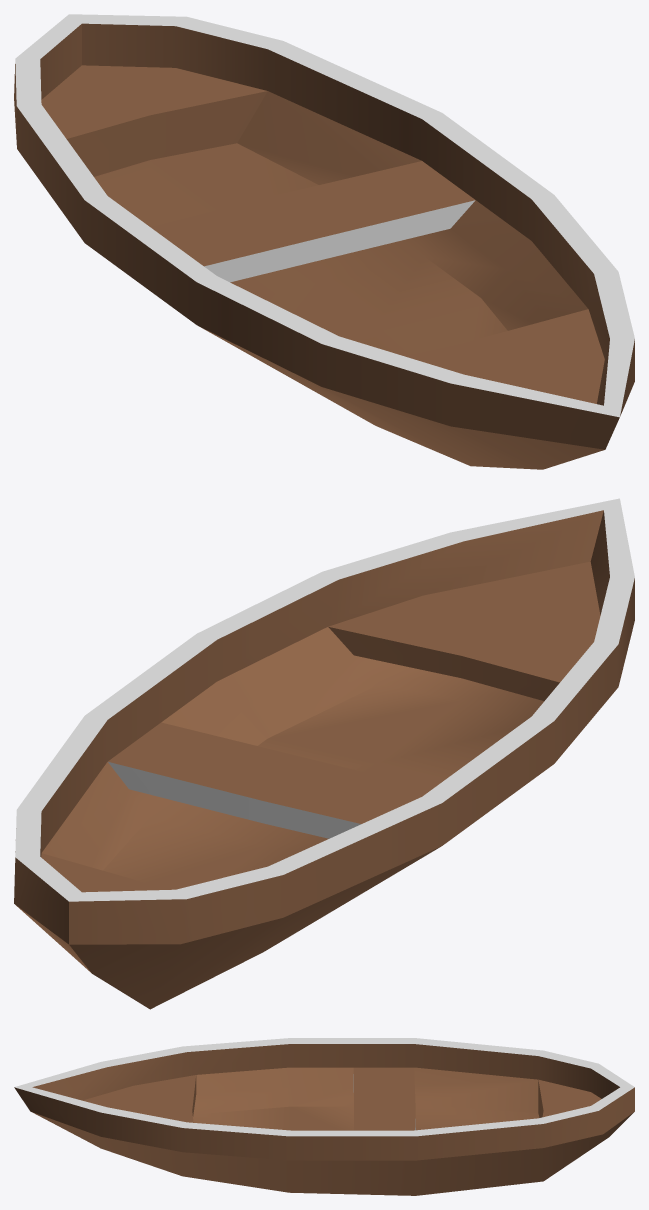
File: Rowboat.fbx
3 views of the same model, one above another, from view 1: azimuth 30°, elevation 25°; view 2: azimuth 150°, elevation 25°; view 3: azimuth 270°, elevation 25° (orthographic). The views are drawn at different scales.
Visible parts, largest first — view 1: Rowboat; view 2: Rowboat; view 3: Rowboat.
Part boxes in pixels (x1,y1,x2,y2): Rowboat: (14,14,634,469); Rowboat: (14,498,634,1009); Rowboat: (14,1038,634,1195).
Bounding box in the file's own units: 197 × 101 × 525.
